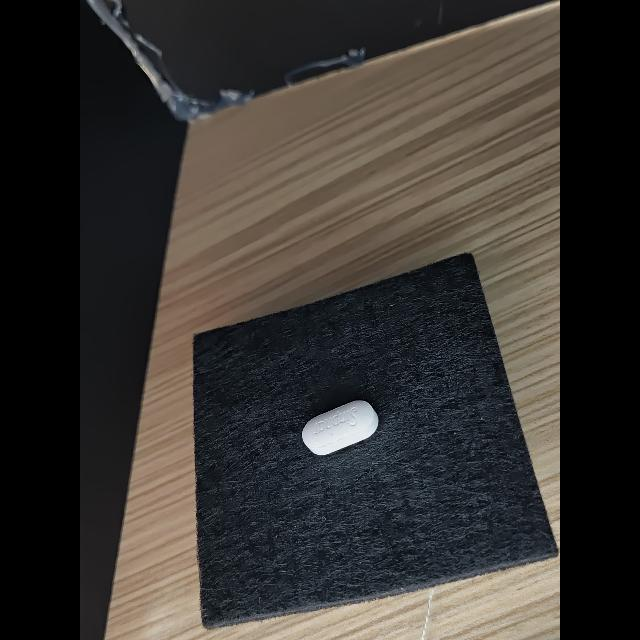Intact Pill: (302, 400, 378, 455)
